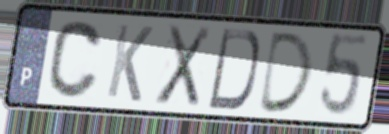5: (317, 30, 371, 122)
C: (45, 18, 104, 102)
D: (255, 30, 316, 116), (204, 26, 262, 113)
K: (103, 21, 155, 105)
X: (152, 23, 214, 110)
